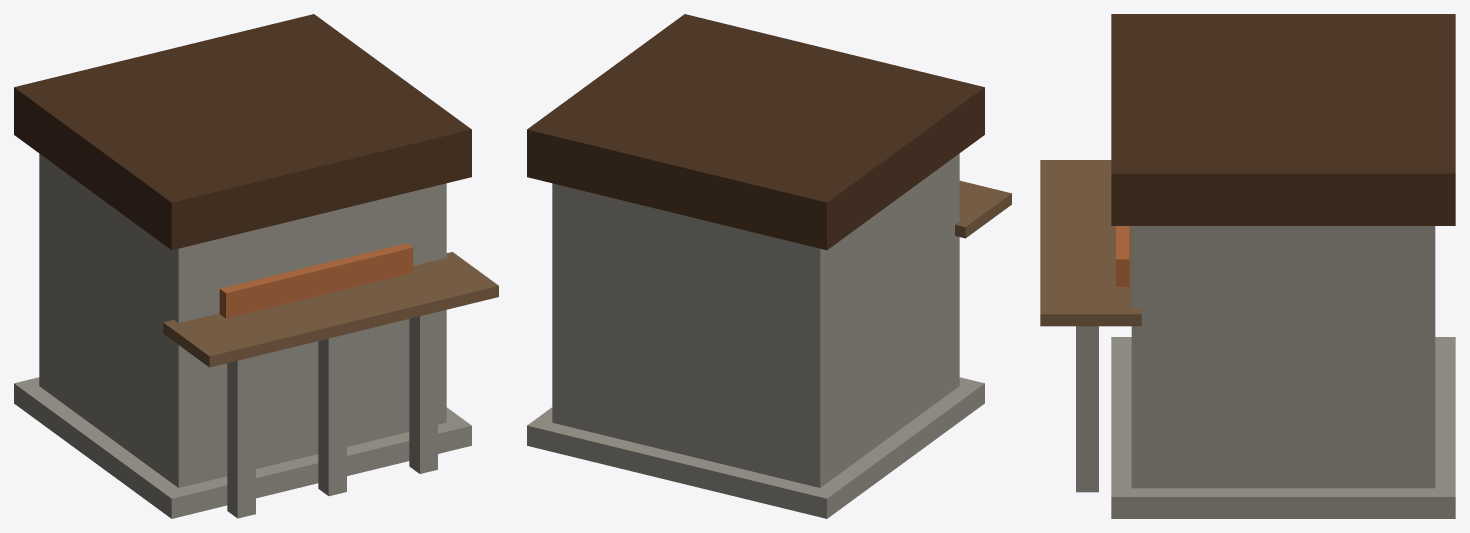
Rendered from bld_commercial_a03_lod2.glb.
3 renders of one model, left to right at view 1: azimuth 30°, elevation 25°; view 2: azimuth 150°, elevation 25°; view 3: azimuth 270°, elevation 25°, orthographic. The views are drawn at different scales.
Parts seen in each view (by area): view 1: body; view 2: body; view 3: body.
Boxes of the visible parts, box(x1,y1,x2,y2) form: body: box(14, 14, 498, 518); body: box(527, 14, 1011, 518); body: box(1040, 14, 1455, 518).
Bounding box in the file's own units: 5.6 × 5.64 × 6.15.
